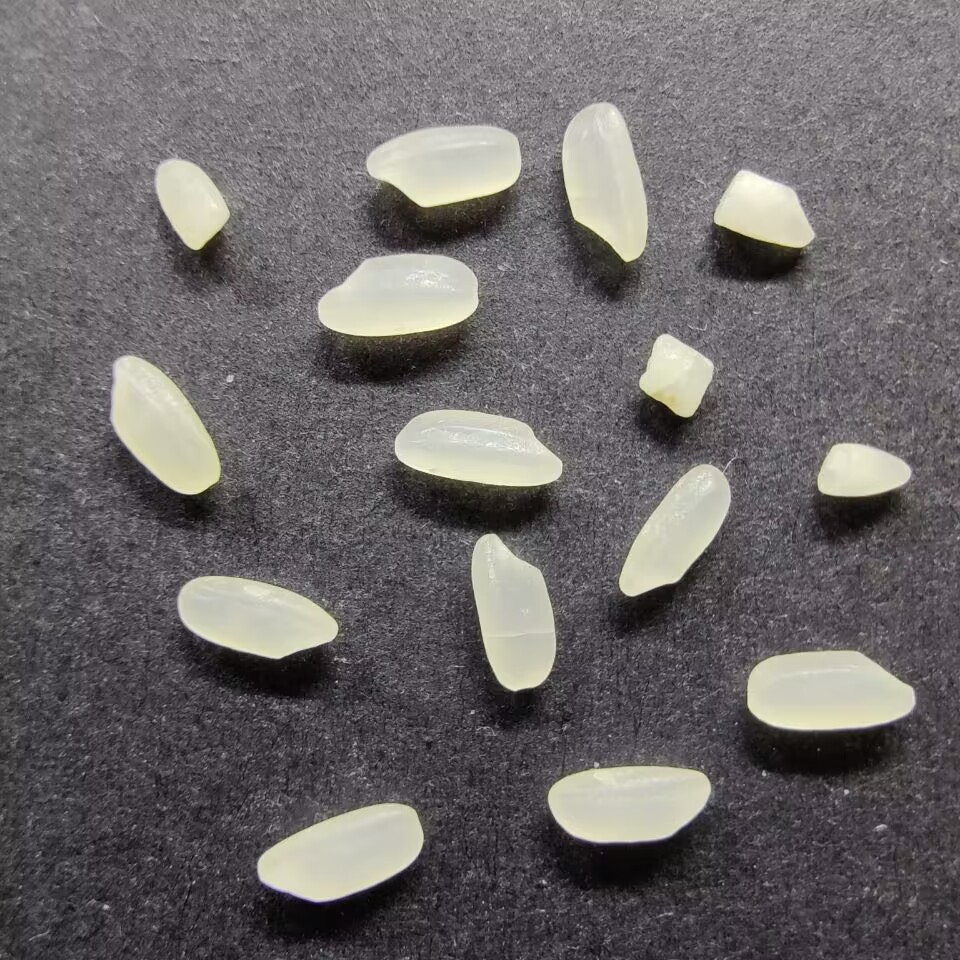broken: (711, 165, 816, 250), (151, 156, 231, 252), (637, 331, 716, 420), (815, 442, 915, 499)
rice: (254, 799, 425, 904), (108, 352, 223, 495), (615, 462, 732, 599), (469, 529, 558, 692), (746, 648, 916, 732), (560, 102, 649, 262), (315, 252, 480, 338), (176, 574, 339, 661), (394, 408, 566, 487), (365, 123, 522, 208), (547, 765, 713, 843)
